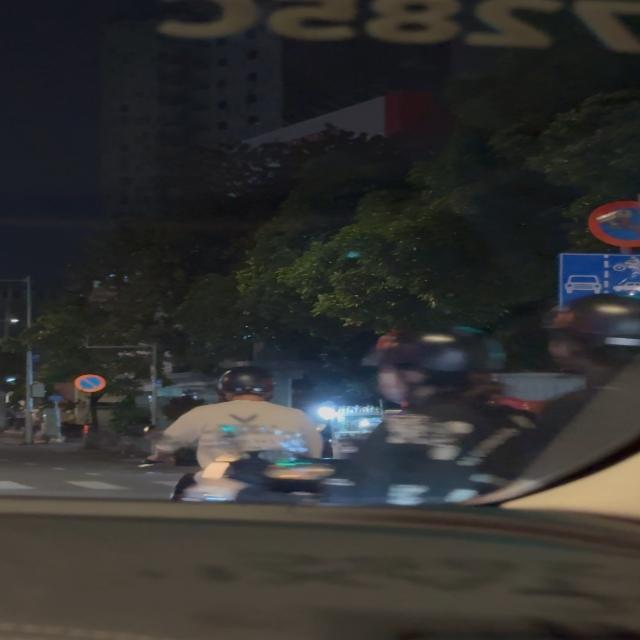Bien bao cam do xe: (72, 370, 111, 396)
